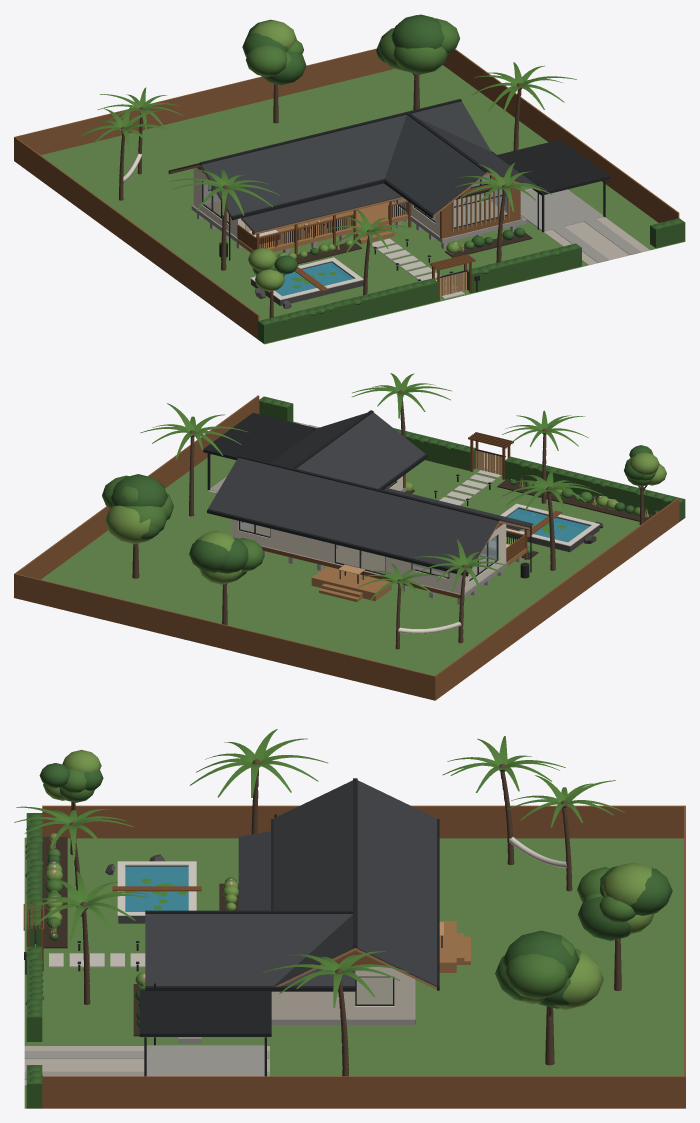
The model's file is tropical-house.glb.
3 renders of one model, top to bottom at view 1: azimuth 30°, elevation 25°; view 2: azimuth 150°, elevation 25°; view 3: azimuth 270°, elevation 25°, orthographic. The views are drawn at different scales.
Visible parts, largest first — view 1: Lawn, RoofSkin (×2), FenceNorth, FenceWest, FenceEast, HedgeWest, CarportRoof, VerandaSkin, HedgeMid, VerandaDeck, Canopy7 (×2), Driveway (+22 smaller); view 2: Lawn, RoofSkin (×2), FenceNorth, FenceWest, FenceEast, CarportRoof, MainRear, HedgeWest, KoiPond, RearDeck, Canopy7, Boundary (+18 smaller); view 3: Lawn, RoofSkin (×2), FenceEast, FenceWest, CarportRoof, MainEast, Canopy5 (×2), Canopy7 (×2), VerandaSkin, CarportSlab, PondWater, Canopy9 (+25 smaller).
Boxes of the visible parts, left/top/right/bottom form: Lawn: left=41, top=65, right=685, bottom=344; RoofSkin (×2): left=169, top=101, right=540, bottom=216; FenceNorth: left=14, top=48, right=394, bottom=159; FenceWest: left=14, top=137, right=259, bottom=339; FenceEast: left=443, top=49, right=679, bottom=222; HedgeWest: left=258, top=278, right=438, bottom=343; CarportRoof: left=497, top=139, right=610, bottom=195; VerandaSkin: left=241, top=183, right=401, bottom=232; HedgeMid: left=467, top=243, right=581, bottom=292; VerandaDeck: left=237, top=202, right=408, bottom=252; Canopy7 (×2): left=261, top=14, right=444, bottom=85; Driveway: left=520, top=188, right=649, bottom=265; Lawn: left=41, top=421, right=640, bottom=675; RoofSkin (×2): left=208, top=412, right=530, bottom=572; FenceNorth: left=14, top=574, right=435, bottom=700; FenceWest: left=434, top=498, right=679, bottom=700; FenceEast: left=14, top=395, right=259, bottom=597; CarportRoof: left=203, top=413, right=315, bottom=462; MainRear: left=232, top=519, right=462, bottom=593; HedgeWest: left=504, top=456, right=685, bottom=521; KoiPond: left=500, top=503, right=599, bottom=552; RearDeck: left=311, top=566, right=391, bottom=601; Canopy7: left=111, top=474, right=167, bottom=506; Boundary: left=262, top=398, right=682, bottom=502; Lawn: left=24, top=837, right=683, bottom=1108; RoofSkin (×2): left=145, top=780, right=436, bottom=986; FenceEast: left=42, top=1076, right=685, bottom=1108; FenceWest: left=42, top=805, right=685, bottom=838; CarportRoof: left=139, top=989, right=271, bottom=1036; MainEast: left=297, top=967, right=413, bottom=1018; Canopy5 (×2): left=553, top=862, right=651, bottom=1009; Canopy7 (×2): left=502, top=896, right=630, bottom=978; VerandaSkin: left=238, top=831, right=270, bottom=910; CarportSlab: left=146, top=1045, right=264, bottom=1075; PondWater: left=125, top=866, right=188, bottom=911; Canopy9: left=504, top=954, right=568, bottom=999.
Size of the model in its own units: 33.2 by 7.46 by 34.56.
